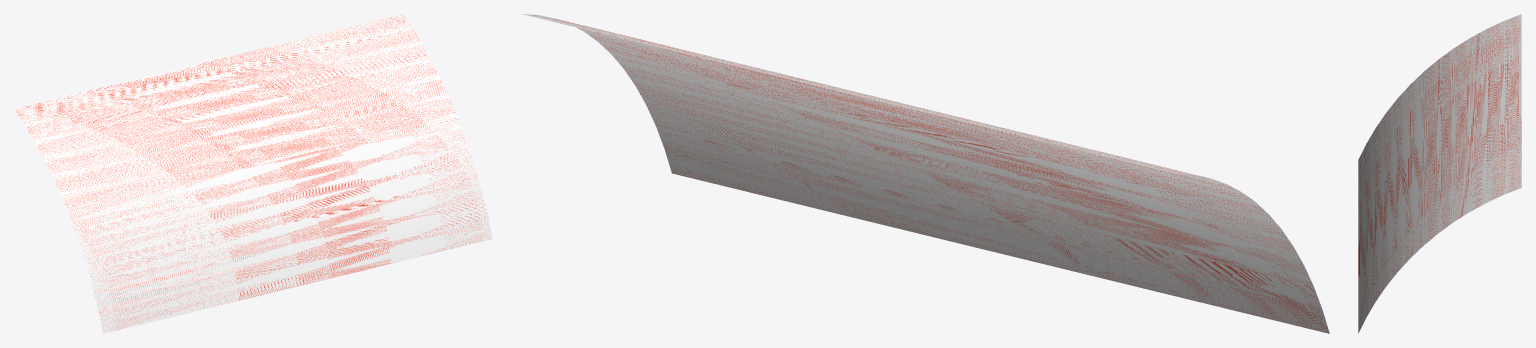
Rendered from original-9.obj.
3 renders of one model, left to right at view 1: azimuth 30°, elevation 25°; view 2: azimuth 150°, elevation 25°; view 3: azimuth 270°, elevation 25°, orthographic. The views are drawn at different scales.
Visible parts, largest first — view 1: mesh16/mesh16-geometry/material_2#mesh16-geometry; view 2: mesh16/mesh16-geometry/material_2#mesh16-geometry; view 3: mesh16/mesh16-geometry/material_2#mesh16-geometry.
Boxes of the visible parts, <box> form: mesh16/mesh16-geometry/material_2#mesh16-geometry: <box>14,14,492,333</box>; mesh16/mesh16-geometry/material_2#mesh16-geometry: <box>522,14,1329,333</box>; mesh16/mesh16-geometry/material_2#mesh16-geometry: <box>1358,14,1521,333</box>.
Size of the model in its own units: 0.6024 by 0.2361 by 0.2392.
